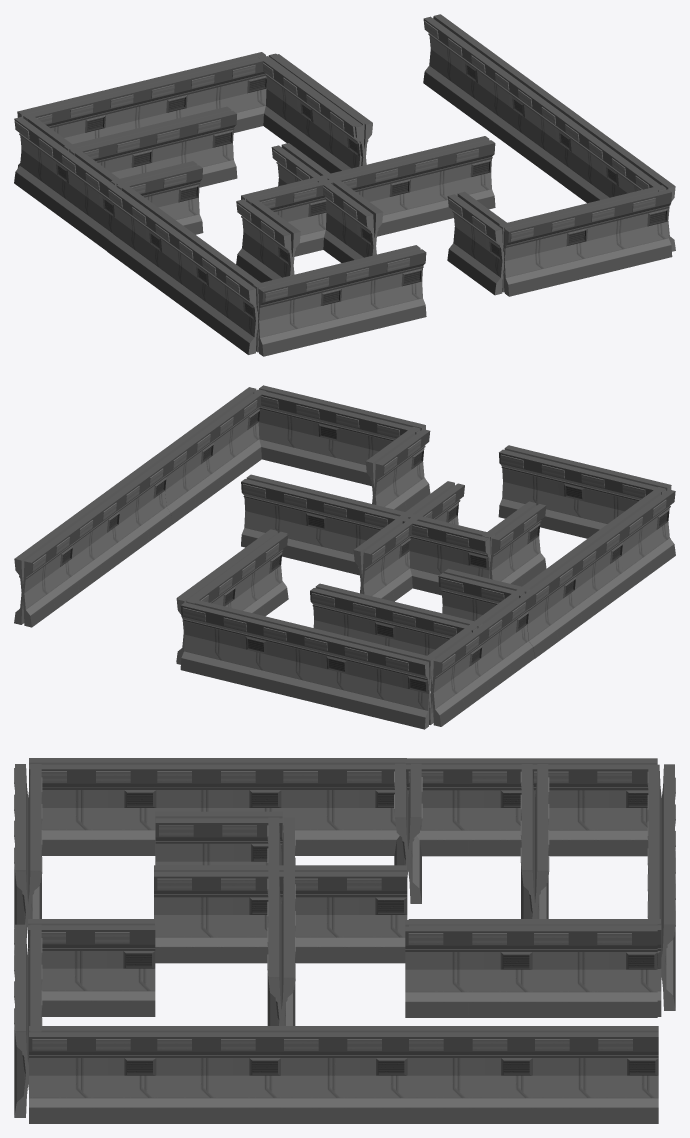
Rendered from sapce_maze.glb.
3 views of the same model, one above another, from view 1: azimuth 30°, elevation 25°; view 2: azimuth 150°, elevation 25°; view 3: azimuth 270°, elevation 25° (orthographic). The views are drawn at different scales.
Parts seen in each view (by area): view 1: wall_2_lambert7_0_98, wall_2_lambert7_0_59, wall_3_lambert7_0_119, wall_3_lambert7_0_80, wall_3_lambert7_0_61, wall_3_lambert7_0_100, wall_2_lambert7_0_117, wall_2_lambert7_0_78, wall_2_lambert7_0_409, wall_3_lambert7_0_41, wall_3_lambert7_0_392, wall_3_lambert7_0_470 (+44 smaller); view 2: wall_3_lambert7_0_441, wall_2_lambert7_0_477, wall_2_lambert7_0_439, wall_2_lambert7_0_458, wall_3_lambert7_0_128, wall_3_lambert7_0_460, wall_3_lambert7_0_479, wall_3_lambert7_0_420, wall_3_lambert7_0_89, wall_2_lambert7_0_126, wall_2_lambert7_0_399, wall_2_lambert7_0_107 (+45 smaller); view 3: wall_3_lambert7_0_304, wall_2_lambert7_0_595, wall_2_lambert7_0_576, wall_2_lambert7_0_557, wall_3_lambert7_0_265, wall_3_lambert7_0_362, wall_2_lambert7_0_282, wall_3_lambert7_0_559, wall_2_lambert7_0_146, wall_3_lambert7_0_284, wall_2_lambert7_0_263, wall_2_lambert7_0_340 (+42 smaller).
Part boxes in pixels (x1=…): wall_2_lambert7_0_98: x1=504, y1=219, x2=550, y2=296; wall_2_lambert7_0_59: x1=258, y1=279, x2=304, y2=356; wall_3_lambert7_0_119: x1=626, y1=189, x2=672, y2=266; wall_3_lambert7_0_80: x1=381, y1=249, x2=426, y2=326; wall_3_lambert7_0_61: x1=300, y1=269, x2=345, y2=346; wall_3_lambert7_0_100: x1=546, y1=209, x2=591, y2=286; wall_2_lambert7_0_117: x1=585, y1=199, x2=630, y2=276; wall_2_lambert7_0_78: x1=340, y1=259, x2=385, y2=336; wall_2_lambert7_0_409: x1=410, y1=150, x2=453, y2=227; wall_3_lambert7_0_41: x1=192, y1=111, x2=237, y2=187; wall_3_lambert7_0_392: x1=369, y1=160, x2=414, y2=236; wall_3_lambert7_0_470: x1=226, y1=56, x2=268, y2=132; wall_3_lambert7_0_441: x1=383, y1=652, x2=430, y2=729; wall_2_lambert7_0_477: x1=180, y1=602, x2=225, y2=679; wall_2_lambert7_0_439: x1=342, y1=642, x2=387, y2=719; wall_2_lambert7_0_458: x1=261, y1=622, x2=306, y2=699; wall_3_lambert7_0_128: x1=294, y1=399, x2=339, y2=476; wall_3_lambert7_0_460: x1=302, y1=632, x2=347, y2=709; wall_3_lambert7_0_479: x1=221, y1=612, x2=266, y2=689; wall_3_lambert7_0_420: x1=282, y1=489, x2=327, y2=565; wall_3_lambert7_0_89: x1=540, y1=459, x2=584, y2=536; wall_2_lambert7_0_126: x1=253, y1=389, x2=298, y2=466; wall_2_lambert7_0_399: x1=321, y1=499, x2=366, y2=575; wall_2_lambert7_0_107: x1=334, y1=409, x2=379, y2=486; wall_3_lambert7_0_304: x1=91, y1=925, x2=155, y2=1016; wall_2_lambert7_0_595: x1=280, y1=1032, x2=344, y2=1123; wall_2_lambert7_0_576: x1=405, y1=1032, x2=469, y2=1123; wall_2_lambert7_0_557: x1=531, y1=1032, x2=595, y2=1123; wall_3_lambert7_0_265: x1=217, y1=1032, x2=281, y2=1123; wall_3_lambert7_0_362: x1=343, y1=872, x2=407, y2=963; wall_2_lambert7_0_282: x1=29, y1=1032, x2=92, y2=1123; wall_3_lambert7_0_559: x1=595, y1=1032, x2=658, y2=1123; wall_2_lambert7_0_146: x1=530, y1=926, x2=594, y2=1017; wall_3_lambert7_0_284: x1=92, y1=1032, x2=156, y2=1123; wall_2_lambert7_0_263: x1=154, y1=1032, x2=217, y2=1123; wall_2_lambert7_0_340: x1=154, y1=872, x2=217, y2=963.
Bounding box in the file's own units: 5.23 × 0.7541 × 5.23.
Materials: 1 (1 with a texture image).
